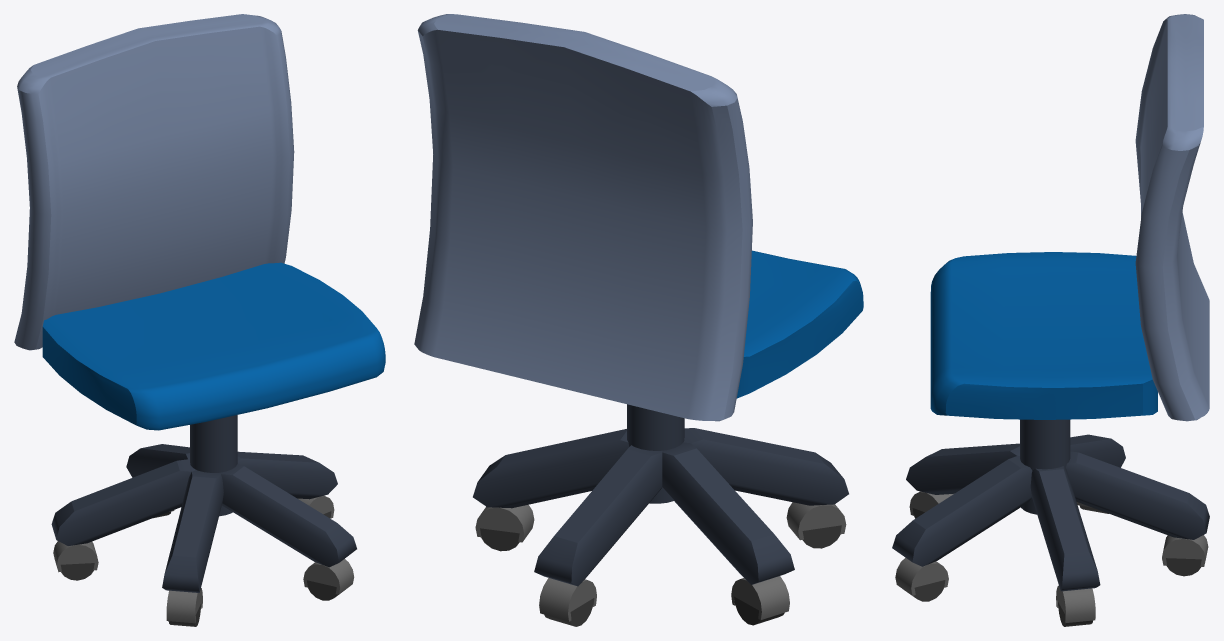
The model's file is SM_Chair.fbx.
3 renders of one model, left to right at view 1: azimuth 30°, elevation 25°; view 2: azimuth 150°, elevation 25°; view 3: azimuth 270°, elevation 25°, orthographic. The views are drawn at different scales.
Visible parts, largest first — view 1: Chair_mesh; view 2: Chair_mesh; view 3: Chair_mesh.
Boxes of the visible parts, x1,y1,x2,y2 form: Chair_mesh: [14, 14, 385, 626]; Chair_mesh: [414, 14, 863, 626]; Chair_mesh: [892, 14, 1209, 626].
Size of the model in its own units: 64.92 by 111 by 63.29.
